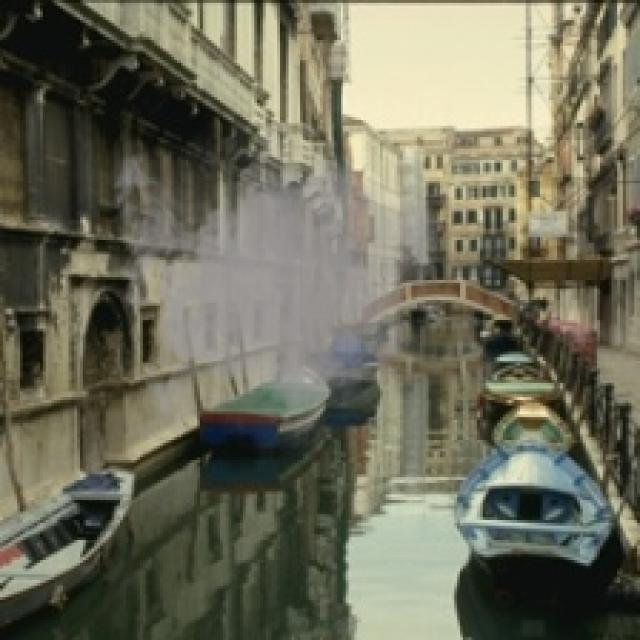smoke: (103, 100, 446, 469)
